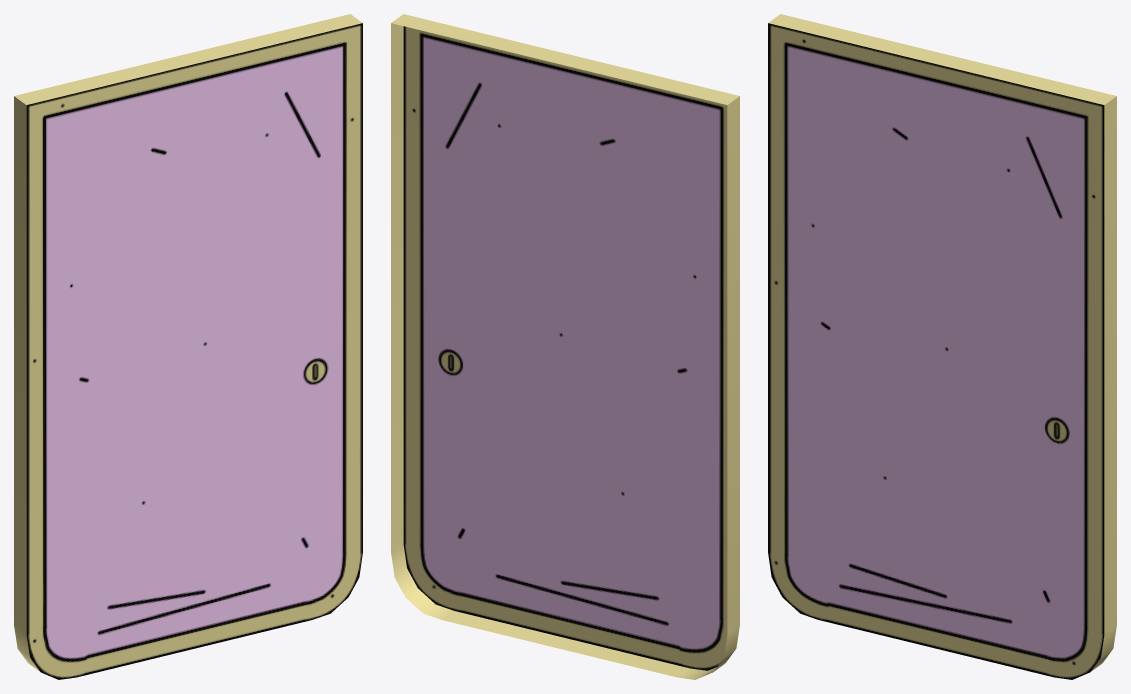
The model's file is Catflap_Door.fbx.
The picture shows the model from 3 angles, left to right: view 1: azimuth 30°, elevation 25°; view 2: azimuth 150°, elevation 25°; view 3: azimuth 330°, elevation 25°; orthographic projection.
Visible parts, largest first — view 1: Box159; view 2: Box159; view 3: Box159.
Part boxes in pixels (x1,y1,x2,y2): Box159: (14, 14, 362, 679); Box159: (391, 14, 739, 679); Box159: (768, 14, 1116, 679).
Bounding box in the file's own units: 1.21 × 2.01 × 0.0777.
